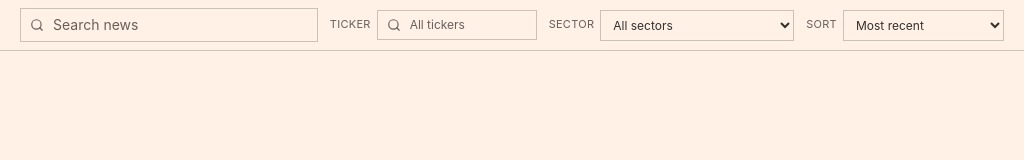
SearchBar › searches within the followed tickers
Step 1. Type "rocket" into the dropdown named "Filter news by stock ticker" → (457, 25), box [377, 10, 537, 40]
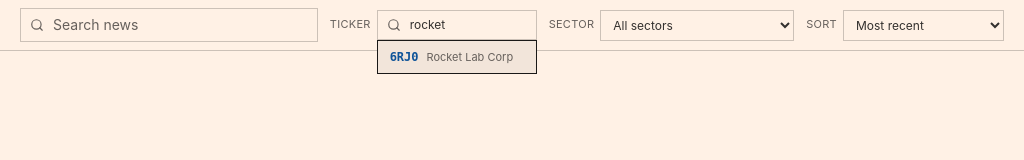
Expected: the text "6RJ0" is shown, [390, 49, 418, 65]
Expected: the option "NVDA" is gone
